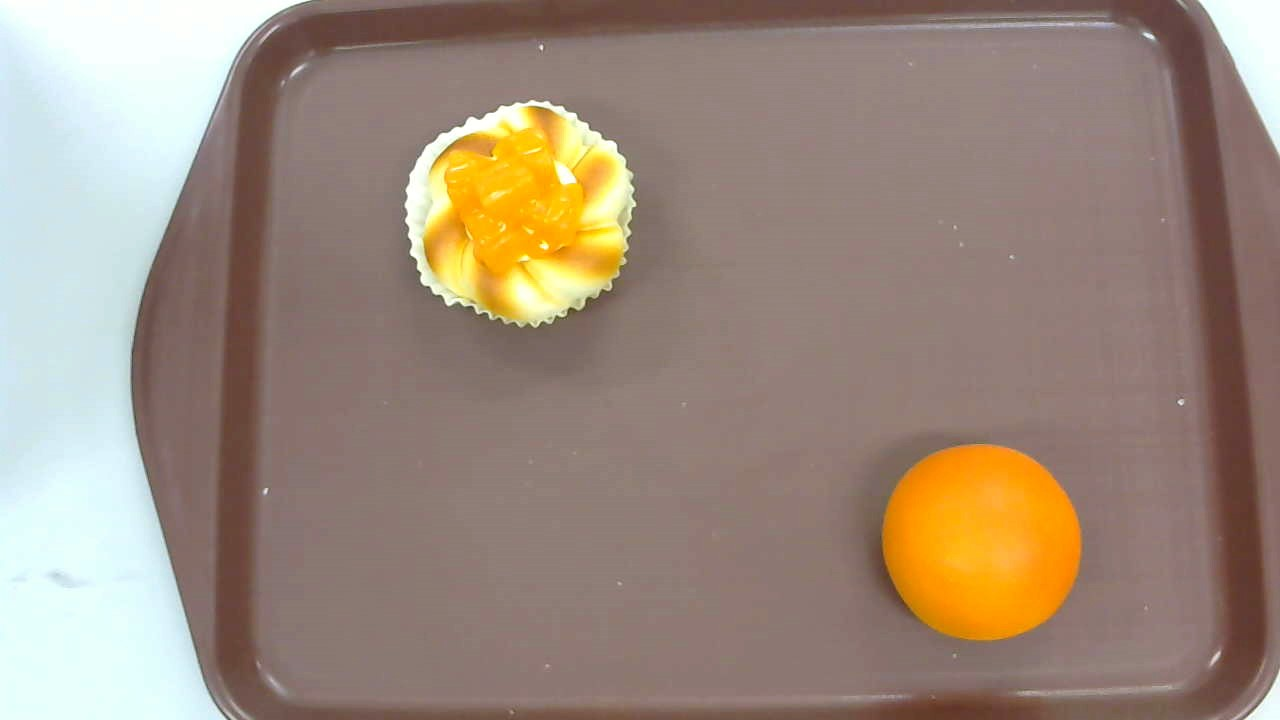bun: (882, 444, 1081, 642)
mango tart: (404, 100, 637, 328)
